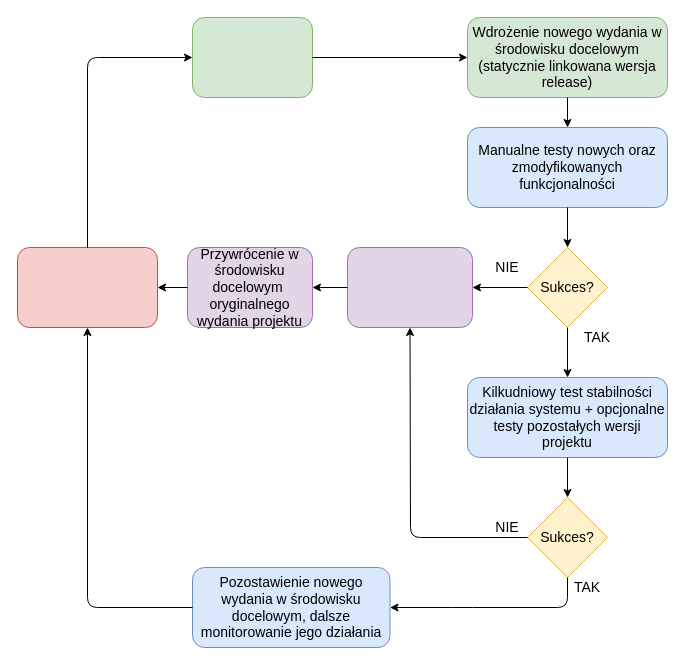
Image size: 685x665. Some labels were removed from this diagram. Here are the shapes that lost their labels. From the top down, the box of each, then its label:
(192, 16, 312, 98): Przygotowanie pakietu z nowym wydaniem
(16, 246, 158, 328): Prace nad nowym wydaniem projektu
(346, 246, 472, 328): Poszukiwanie przyczyny niepowodzenia
